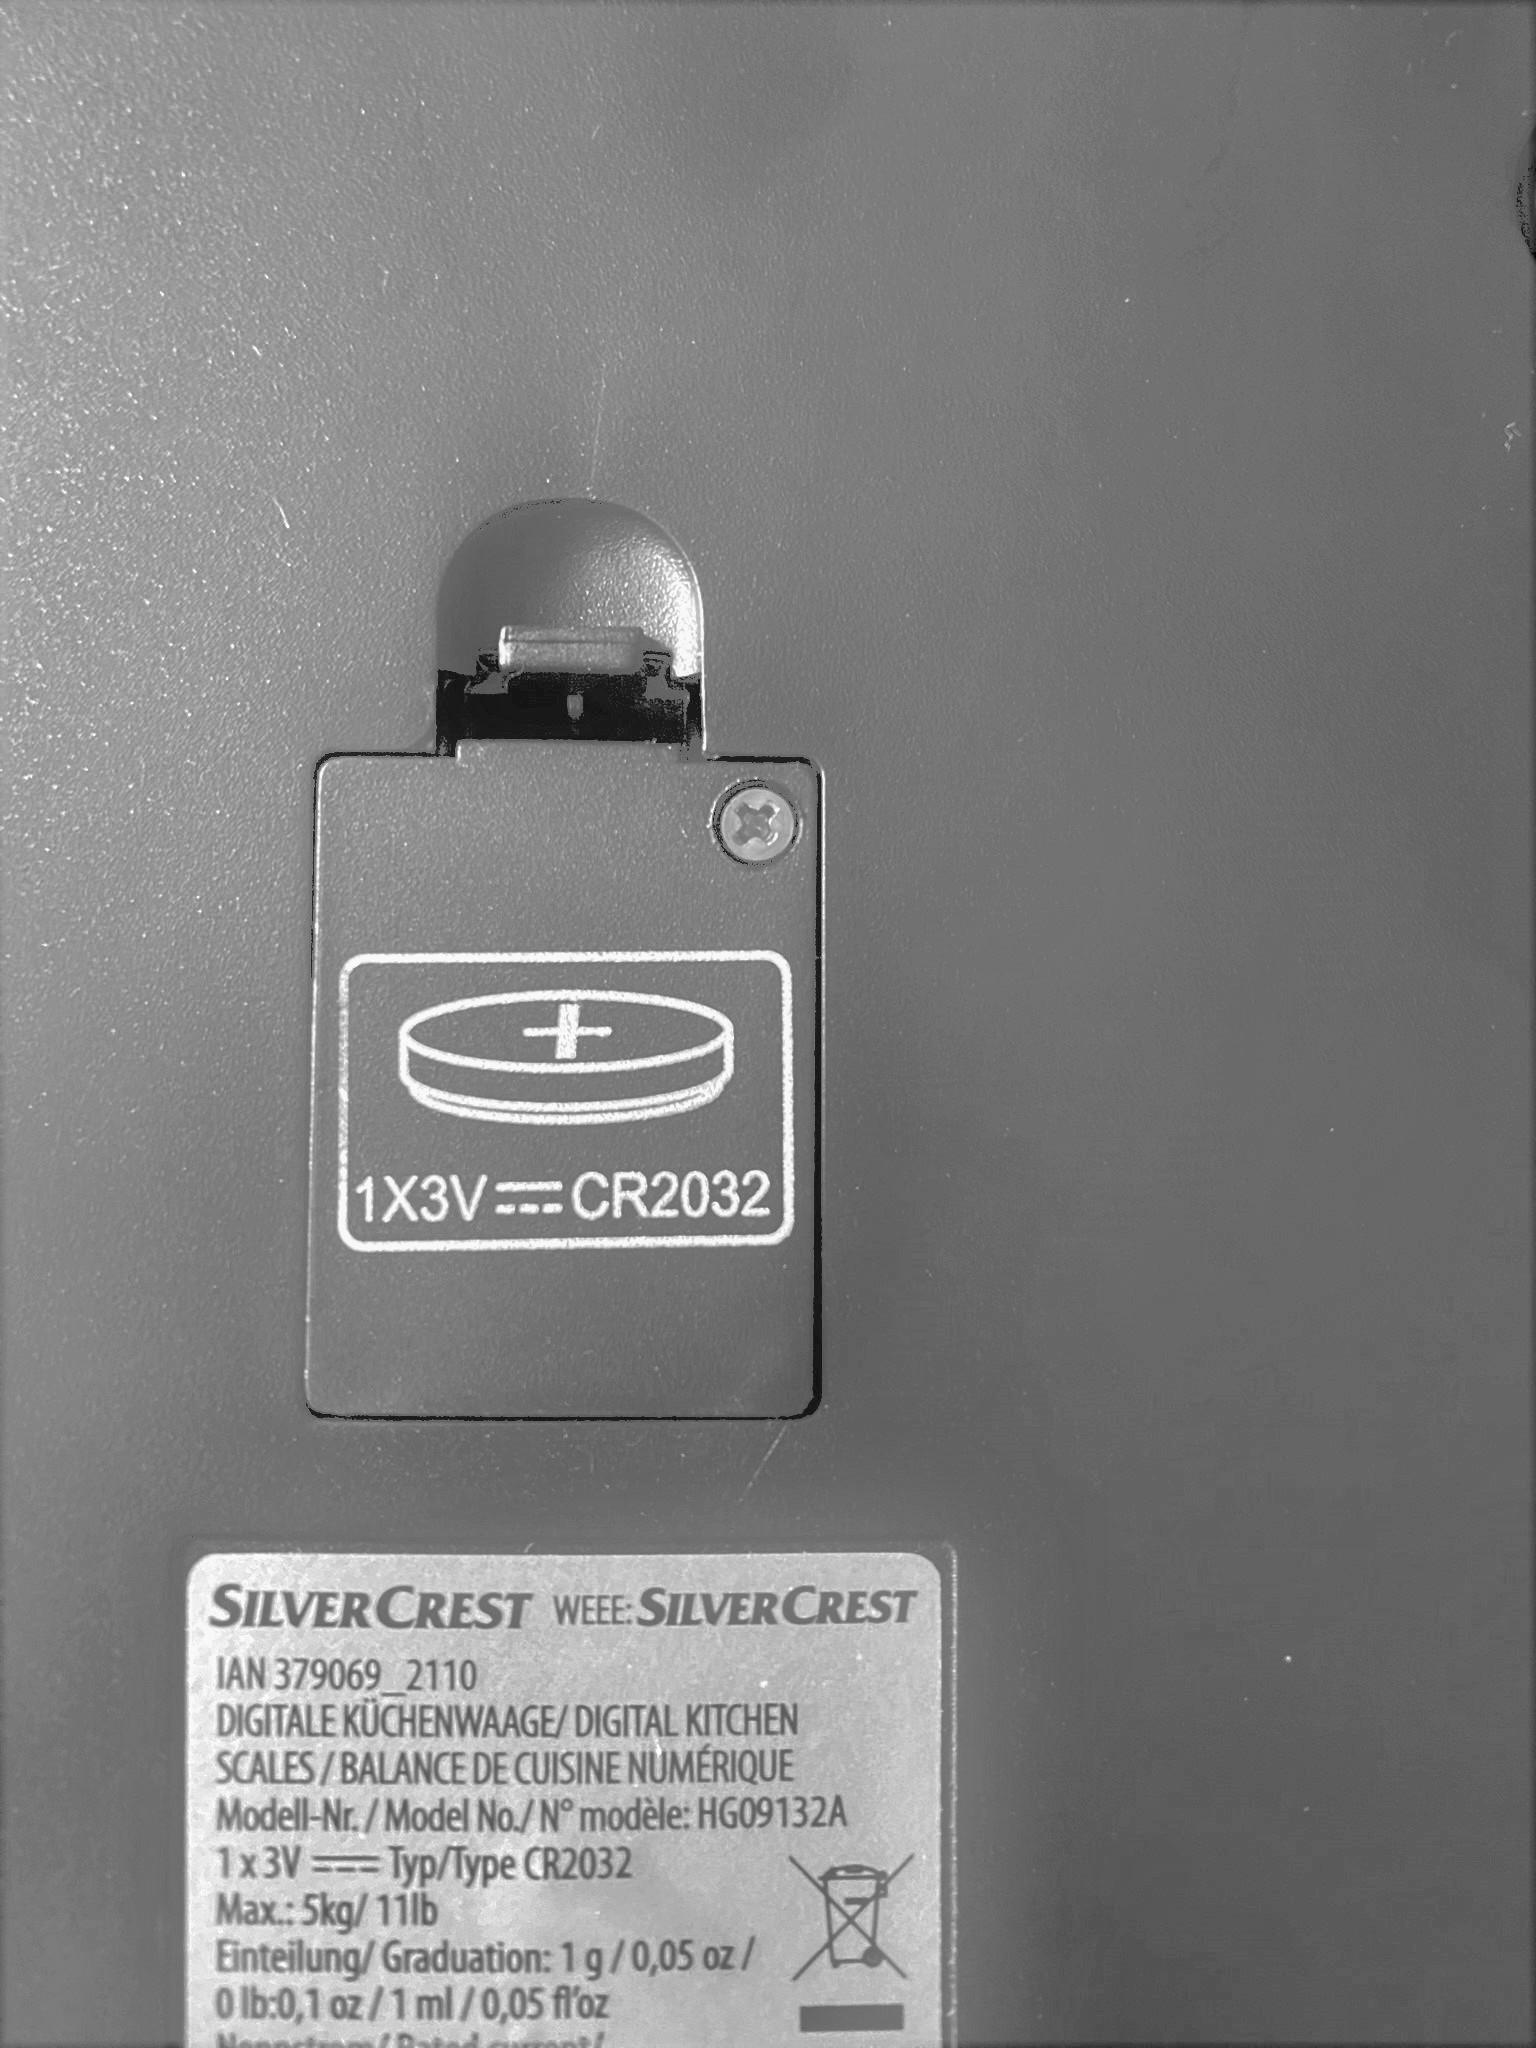philips-PZ: (716, 784, 800, 866)
